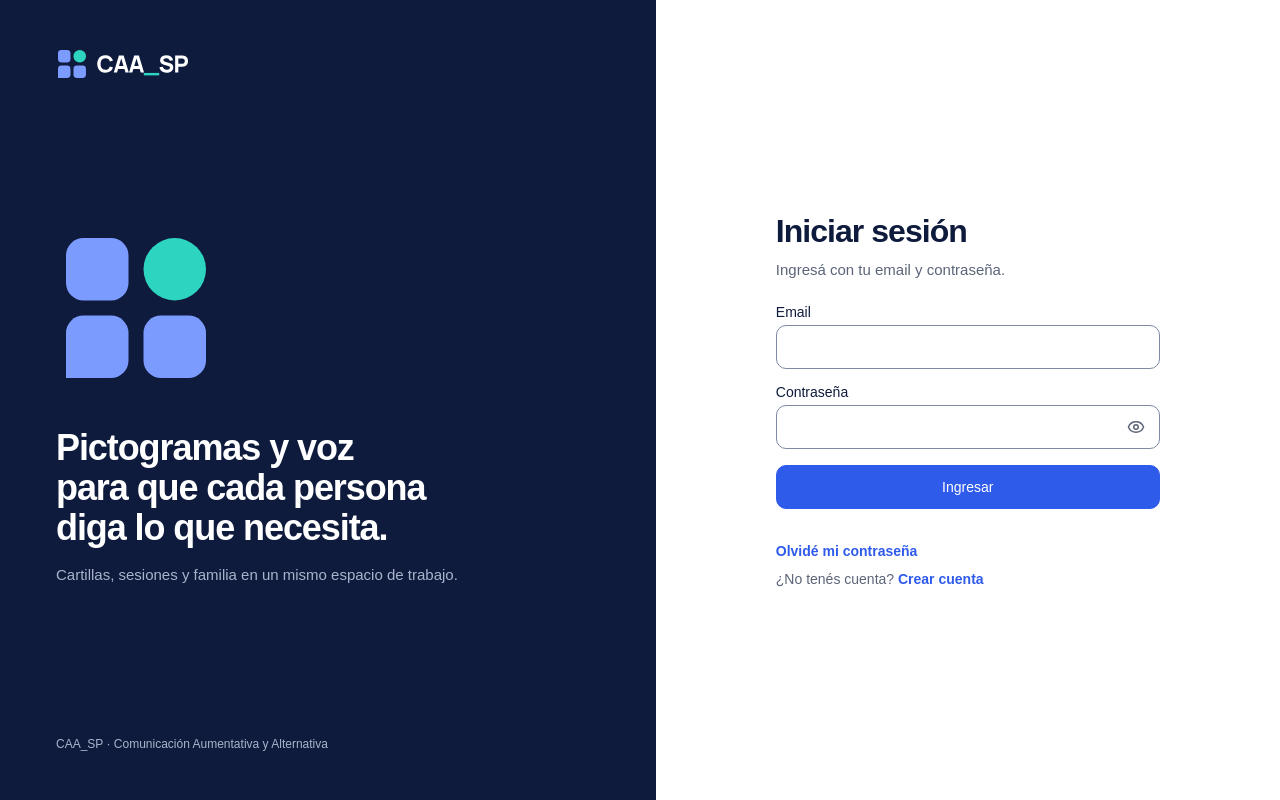
LoginPage › shows the cookies message when login succeeds but /me is still null
Type "ana@example.com" into the field labelled "Email" at {"x": 968, "y": 347}, box [776,325,1160,369]
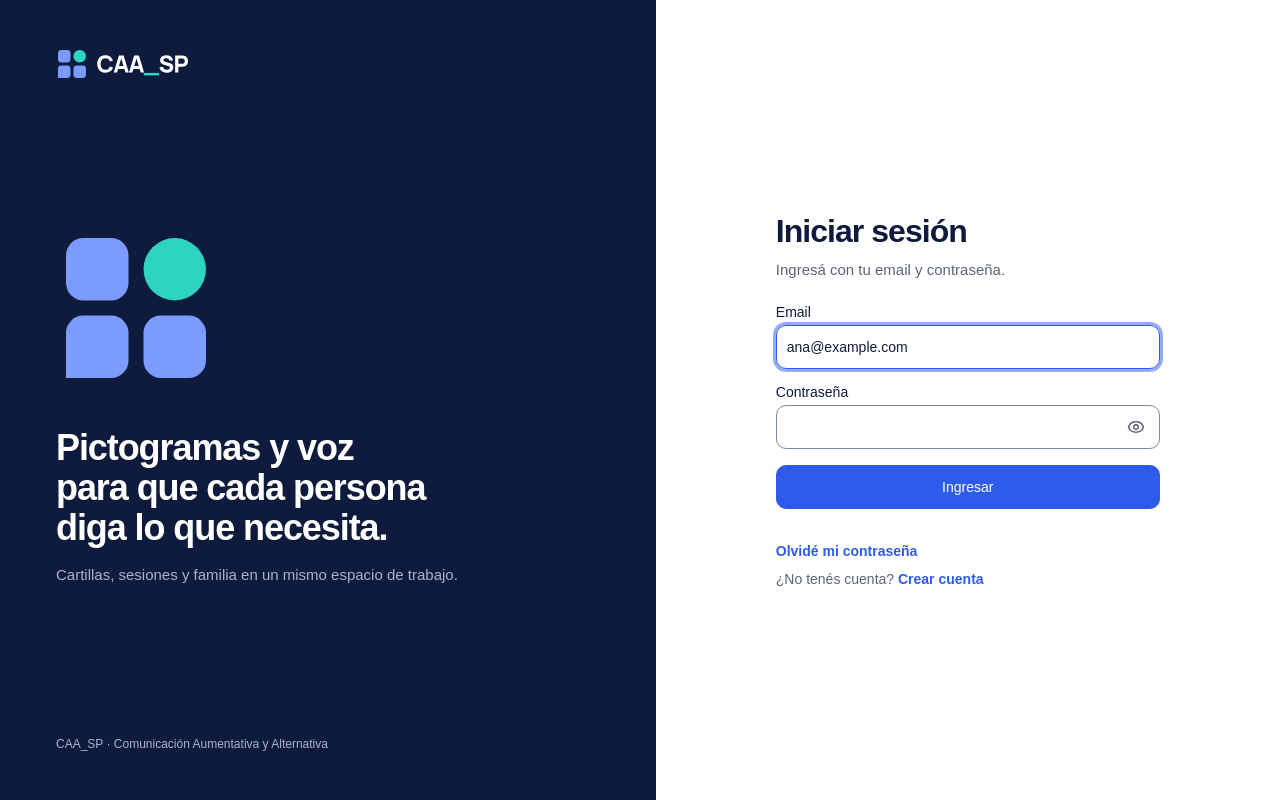
Type "secret" into the password field labelled "Contraseña" at {"x": 968, "y": 427}, box [776,405,1160,449]
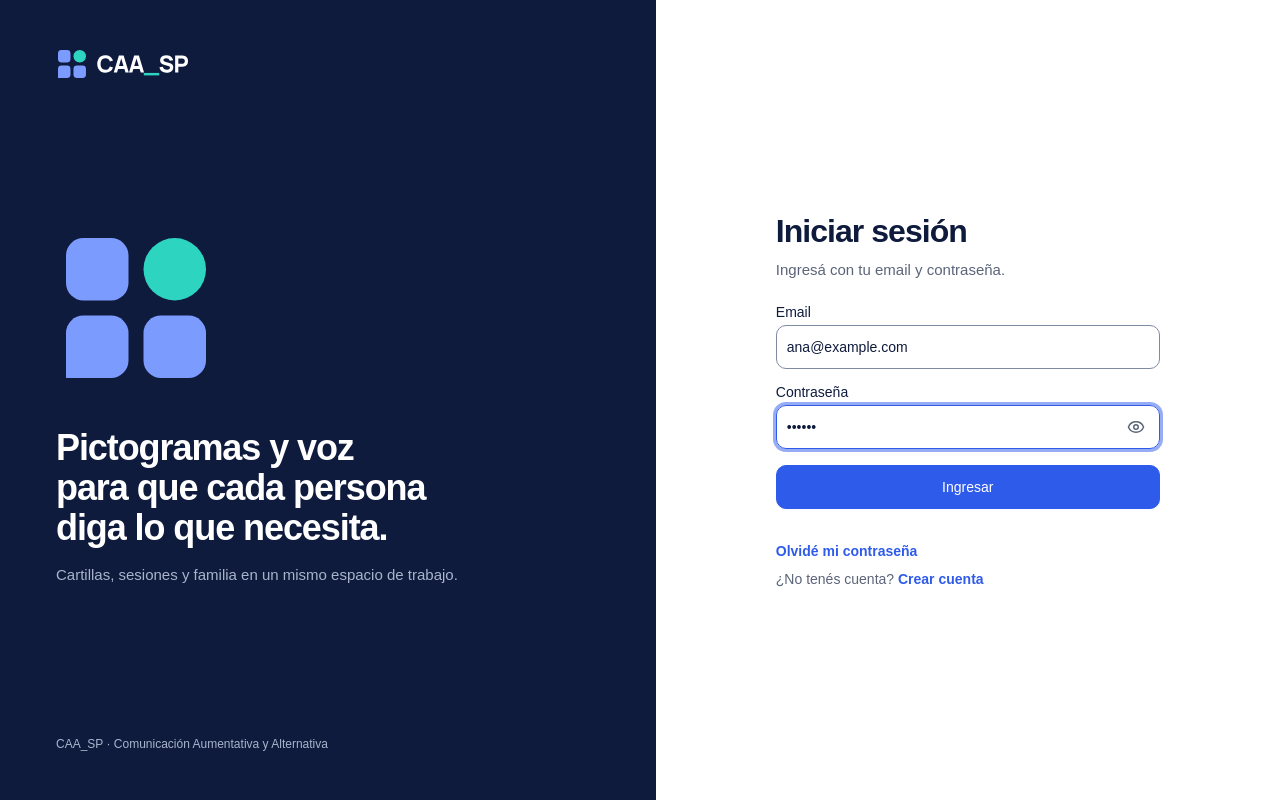
Click the button "Ingresar" at {"x": 968, "y": 487}, box [776,465,1160,509]
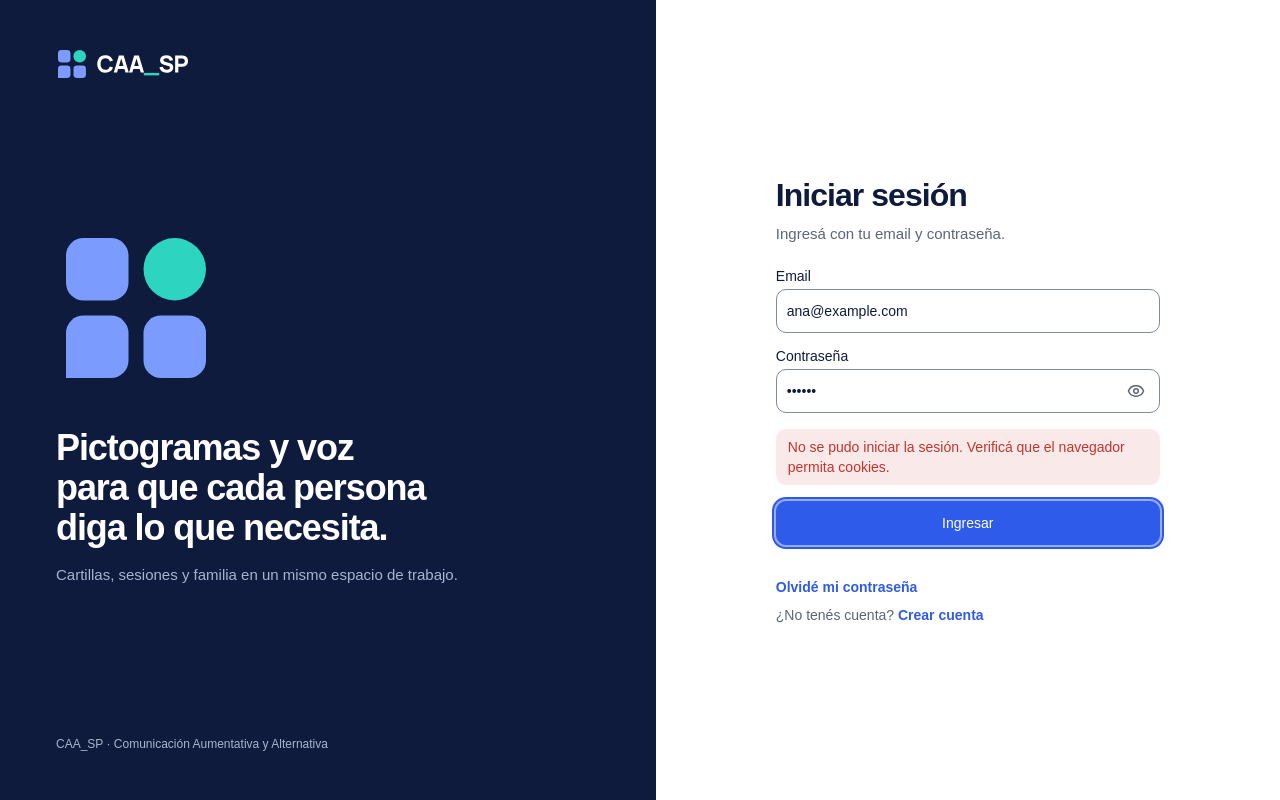
Now the message shows "Verificá que el navegador permita cookies.", box [788,439,1125,475]
